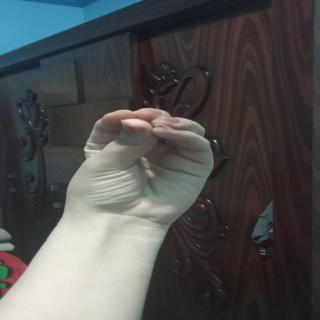HA: (61, 104, 232, 228)
